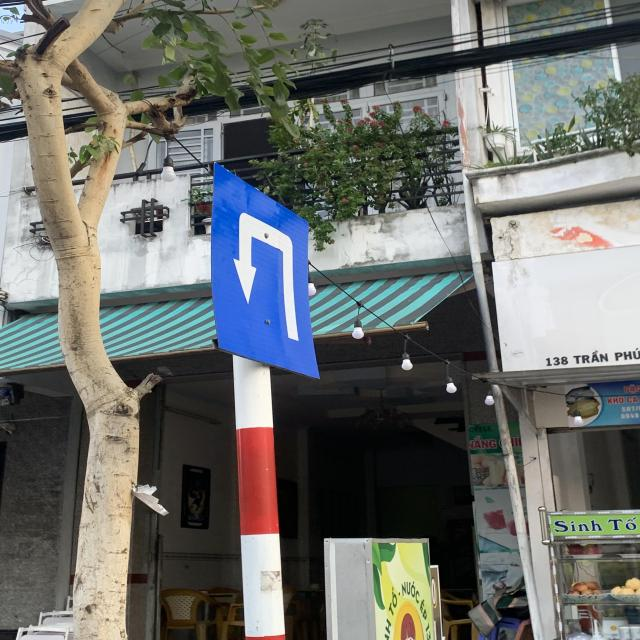Den_Giao_Thong: (210, 165, 316, 375)
